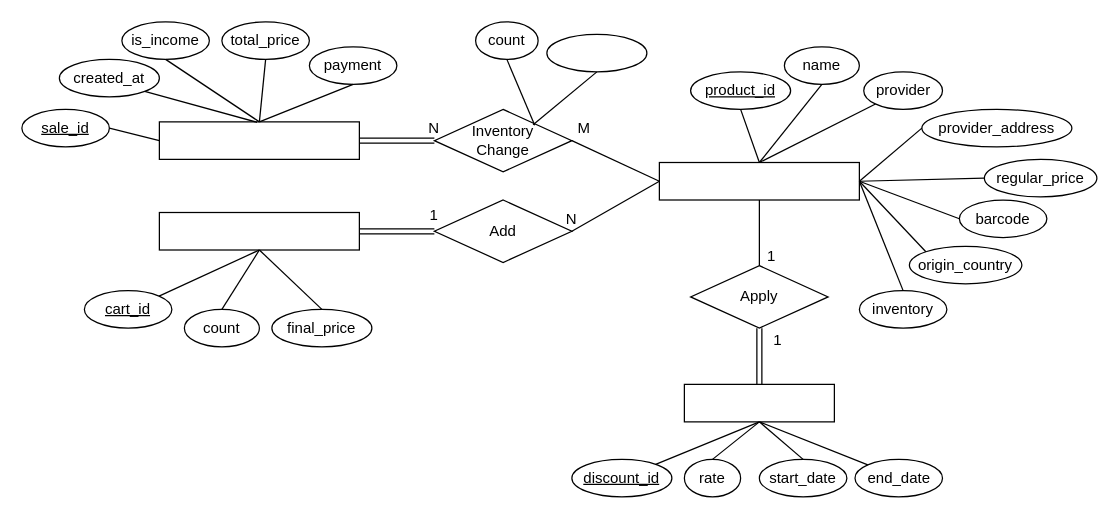
This 1119x519 diagram has some shape labels left out. Here are the shapes that lost their labels. From the top down, the centre of each, then its label:
At (x=596, y=52): "price_paid".
At (x=258, y=140): "Sale".
At (x=758, y=180): "Product".
At (x=258, y=230): "Cart".
At (x=758, y=402): "Discount".
